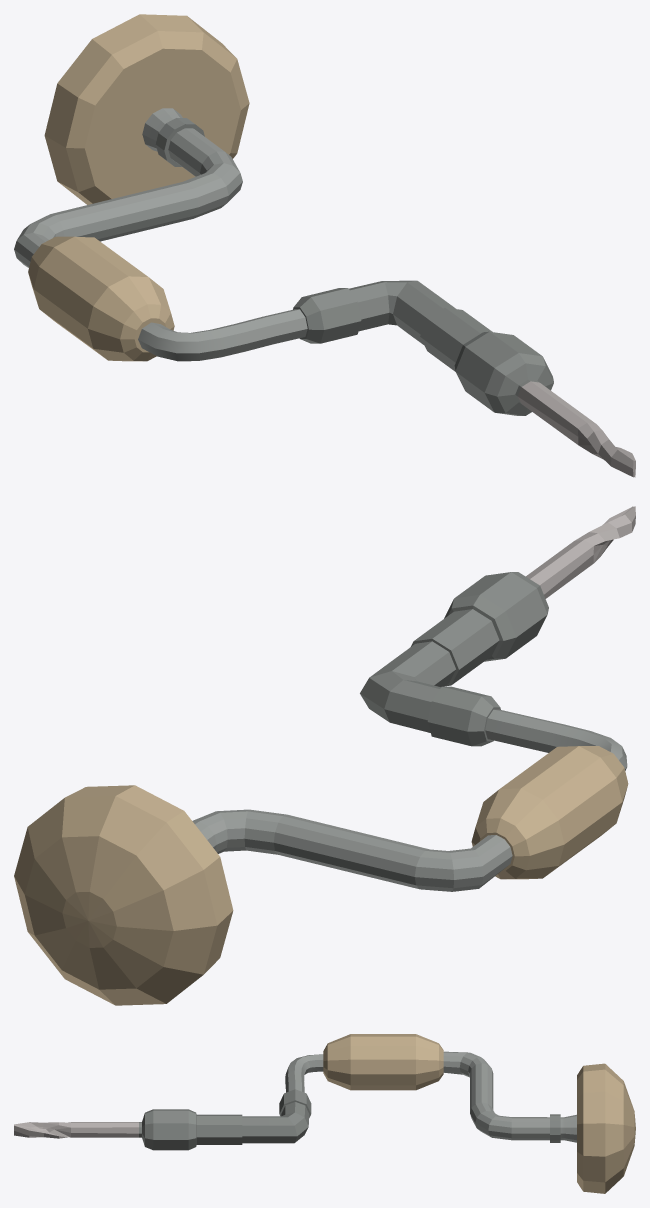
File: handDrill_fbx.fbx
3 views of the same model, one above another, from view 1: azimuth 30°, elevation 25°; view 2: azimuth 150°, elevation 25°; view 3: azimuth 270°, elevation 25° (orthographic). The views are drawn at different scales.
Visible parts, largest first — view 1: pCylinder4; view 2: pCylinder4; view 3: pCylinder4.
Boxes of the visible parts, box(x1,y1,x2,y2) form: pCylinder4: box(14, 14, 635, 477); pCylinder4: box(14, 506, 635, 1005); pCylinder4: box(14, 1034, 635, 1193).
Size of the model in its own units: 0.7771 by 0.4069 by 1.94.
